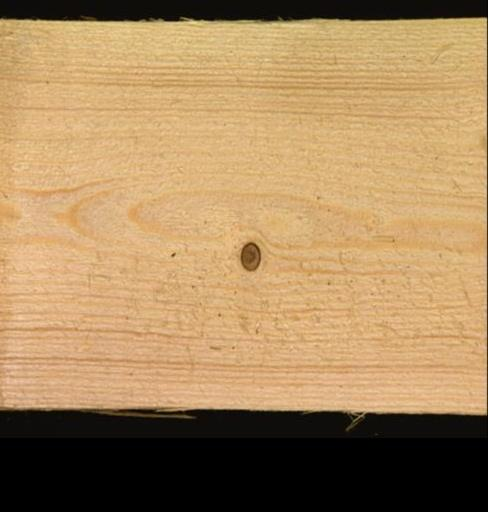dry_knot: (236, 237, 262, 272)
